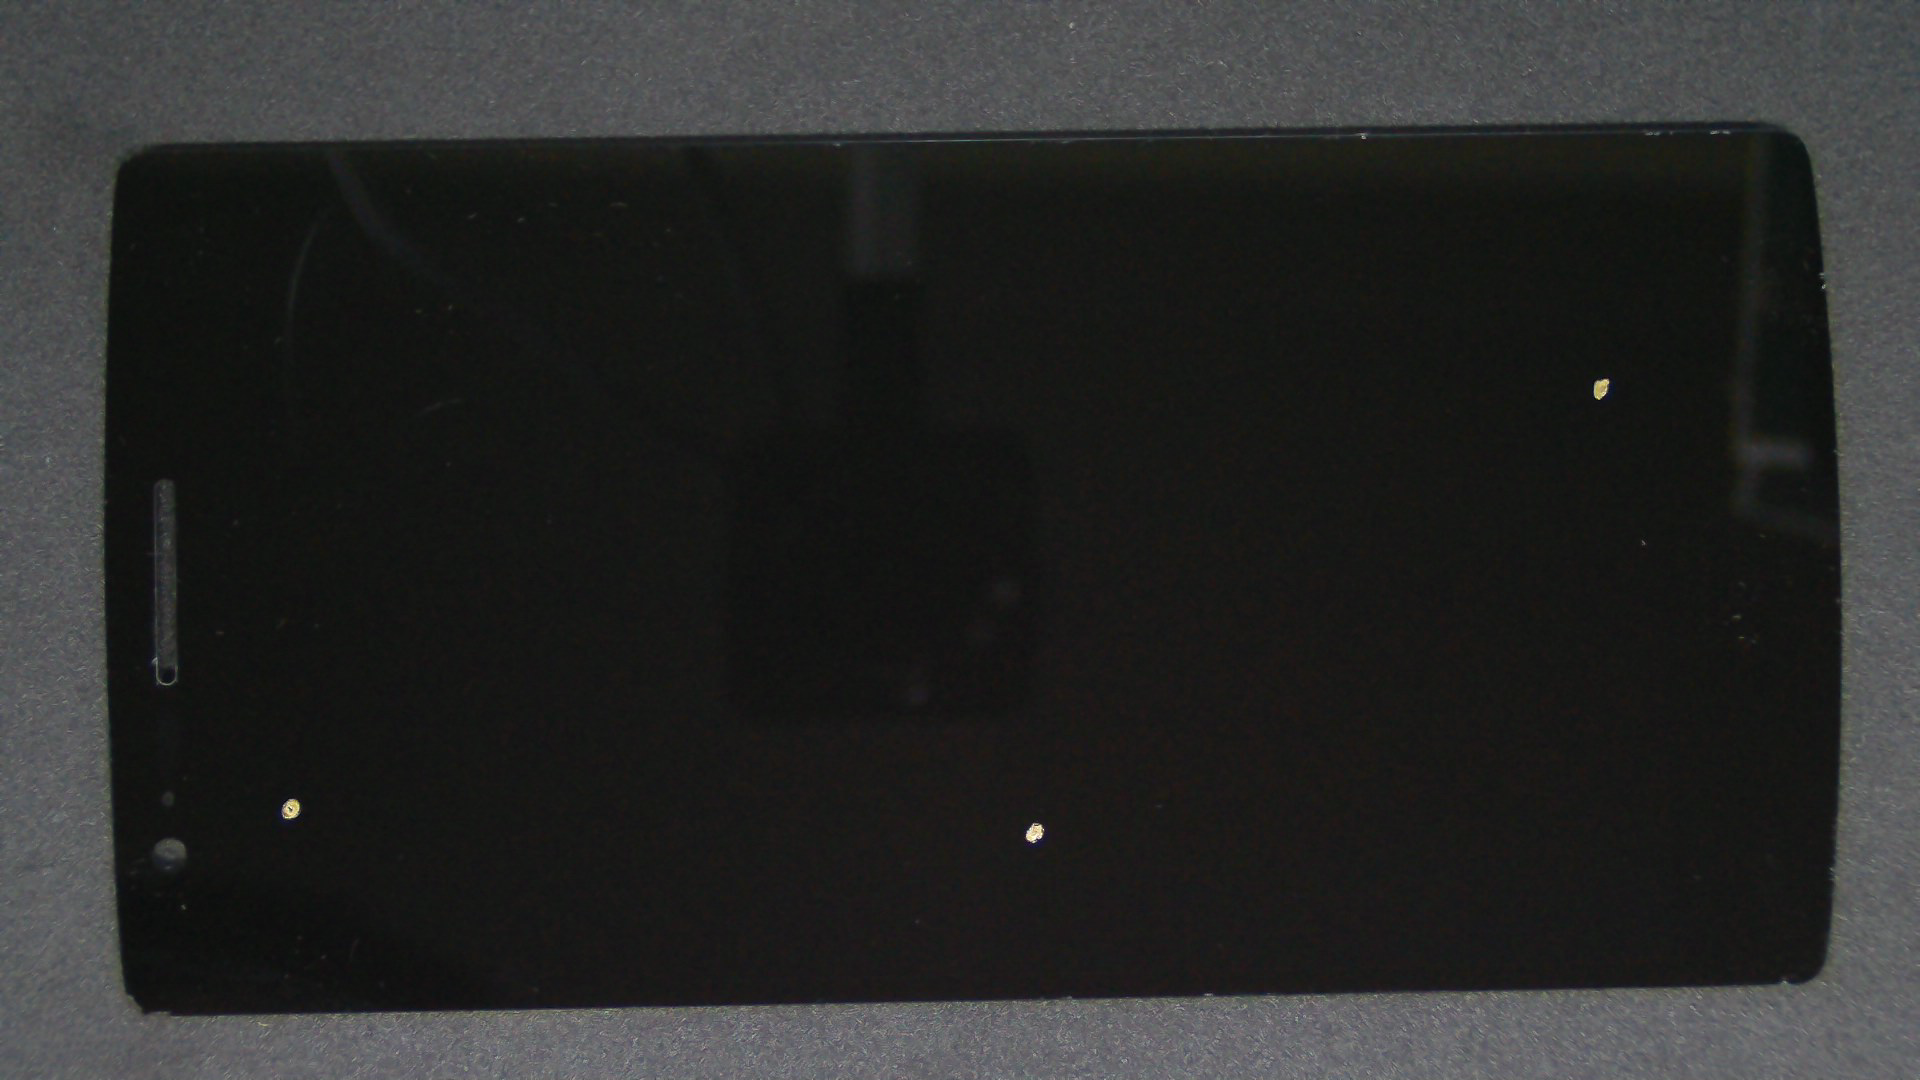defect: (280, 796, 302, 820), (1023, 822, 1046, 844), (1592, 377, 1609, 401)
